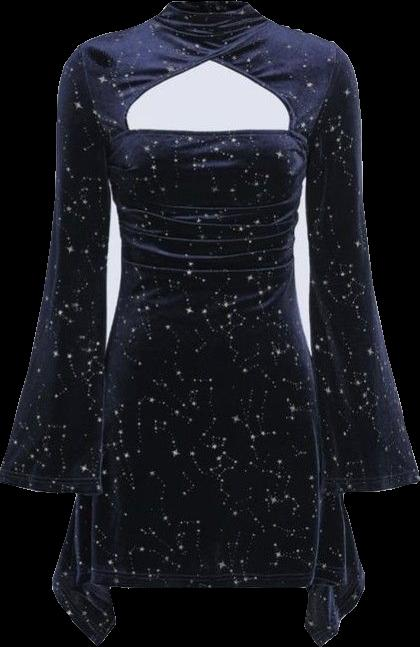Bodice: (76, 0, 339, 287)
Hemline: (54, 572, 369, 646)
Neckline: (123, 16, 264, 132), (207, 53, 295, 132), (107, 123, 312, 147), (170, 0, 254, 14)
Skirt: (52, 288, 364, 646)
Sleeve: (305, 42, 419, 493), (0, 51, 112, 494)
Sleeveline: (70, 49, 110, 147), (310, 43, 341, 147)
